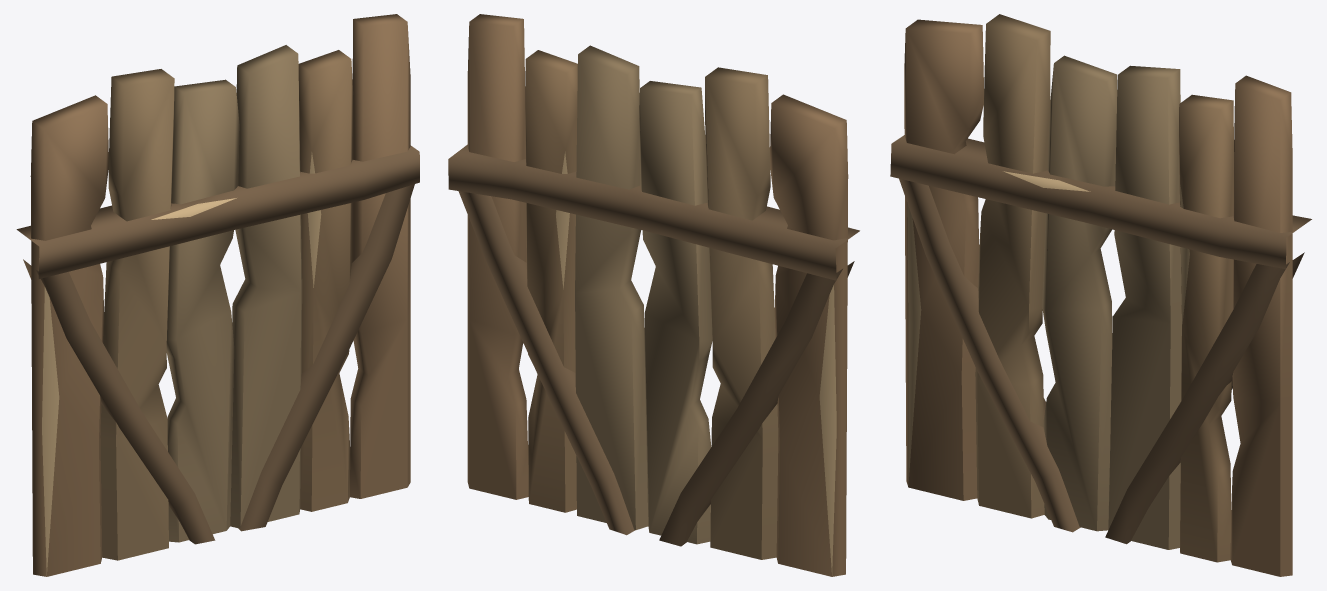
Rendered from rpgpp_av_fence_03h_2m.gltf.
3 views of the same model, side by side, from view 1: azimuth 30°, elevation 25°; view 2: azimuth 150°, elevation 25°; view 3: azimuth 330°, elevation 25° (orthographic). The views are drawn at different scales.
Parts seen in each view (by area): view 1: rpgpp_av_fence_03h_2m; view 2: rpgpp_av_fence_03h_2m; view 3: rpgpp_av_fence_03h_2m.
Boxes of the visible parts, box(x1,y1,x2,y2) form: rpgpp_av_fence_03h_2m: box(16, 14, 419, 576); rpgpp_av_fence_03h_2m: box(448, 14, 859, 576); rpgpp_av_fence_03h_2m: box(890, 14, 1311, 576).
Size of the model in its own units: 0.0174 by 0.0204 by 0.0024.
1 material, 1 textured.
